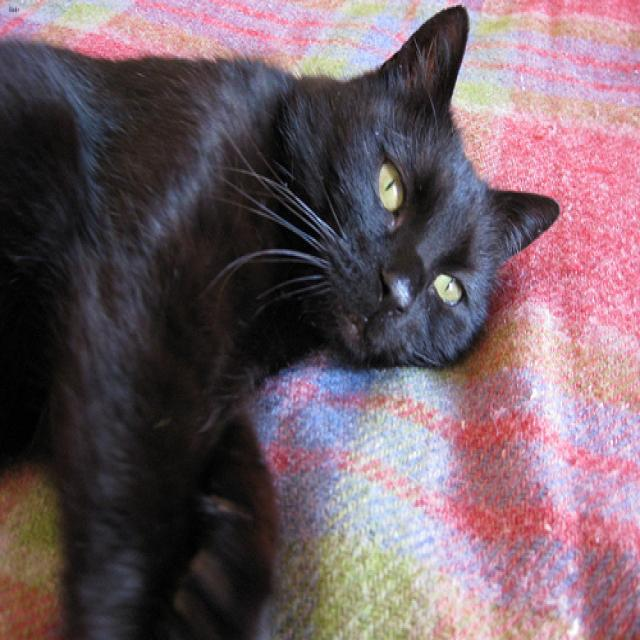Bombay: (275, 0, 572, 379)
